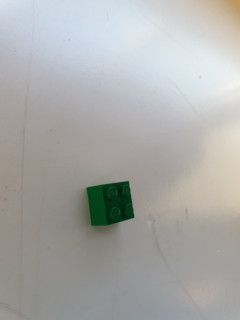2x2 green: (86, 180, 135, 227)
